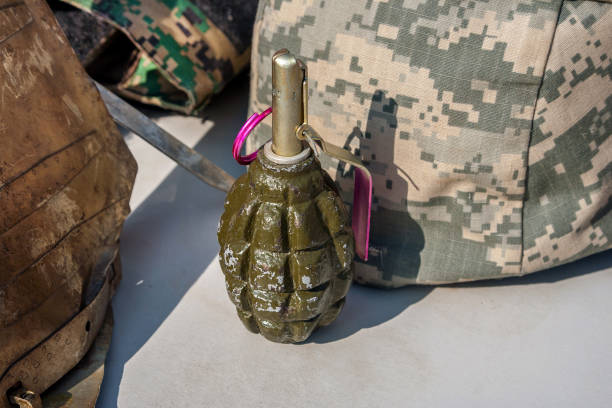e1: (219, 53, 373, 341)
